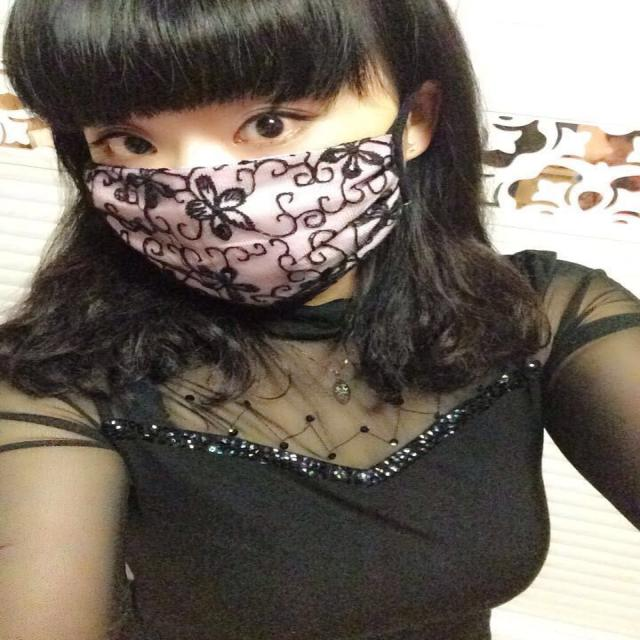mask: (88, 0, 385, 294)
